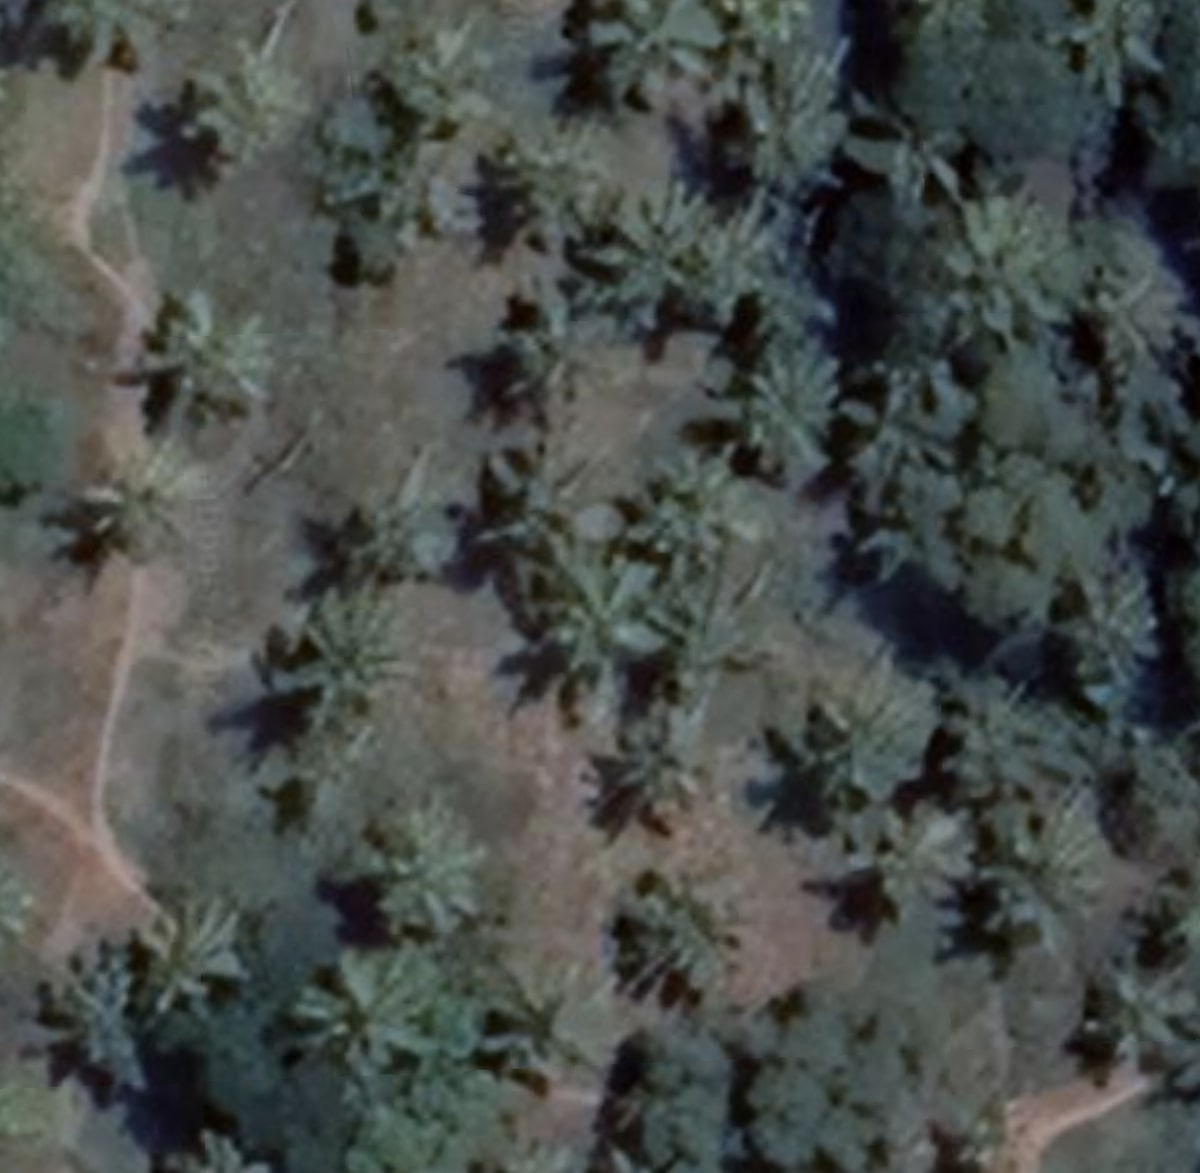coconut: (721, 328, 881, 484), (122, 280, 274, 446), (516, 557, 663, 711), (266, 575, 413, 724), (787, 669, 932, 811), (269, 961, 413, 1095), (111, 890, 243, 1008), (590, 705, 699, 828)
